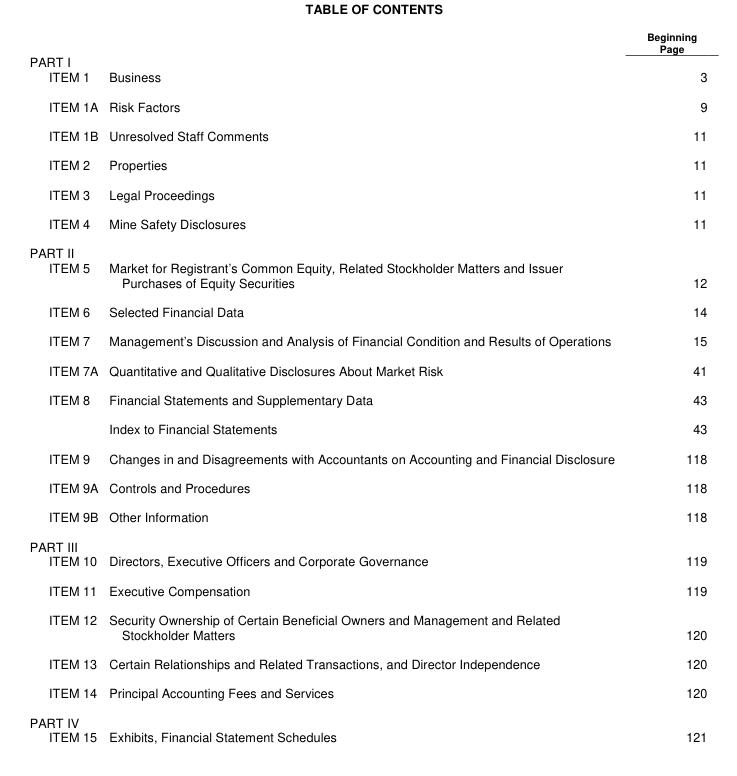table: (28, 28, 706, 745)
table column: (102, 28, 630, 745), (630, 28, 706, 745), (28, 28, 102, 745)
table column header: (28, 28, 706, 53)
table projected row header: (28, 237, 706, 259), (28, 531, 706, 553), (28, 707, 706, 729), (28, 53, 706, 68)
table row: (28, 604, 706, 648), (28, 259, 706, 296), (28, 90, 706, 120), (28, 178, 706, 208), (28, 354, 706, 384), (28, 413, 706, 443), (28, 501, 706, 531), (28, 574, 706, 604), (28, 677, 706, 707), (28, 120, 706, 149), (28, 149, 706, 178), (28, 208, 706, 237), (28, 296, 706, 325), (28, 325, 706, 354), (28, 384, 706, 413), (28, 443, 706, 472), (28, 472, 706, 501), (28, 648, 706, 677), (28, 28, 706, 53), (28, 68, 706, 90), (28, 237, 706, 259), (28, 531, 706, 553), (28, 707, 706, 729), (28, 553, 706, 574), (28, 729, 706, 745), (28, 53, 706, 68)
table spanning cell: (28, 384, 102, 443)
